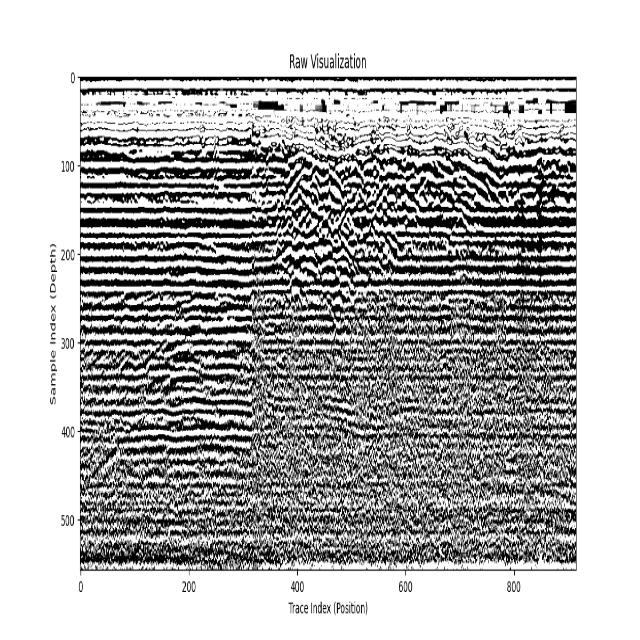anomaly: (280, 139, 355, 327)
